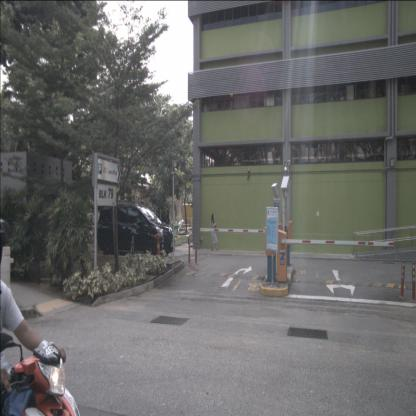human-pedestrian-adult: (210, 214, 219, 252)
vehicle-bicycle: (0, 302, 81, 416), (188, 225, 204, 247), (128, 231, 139, 261)
vehicle-car: (96, 204, 175, 258)
